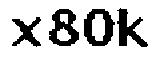0: (82, 7, 115, 50)
8: (49, 6, 78, 51)
k: (117, 8, 151, 48)
x: (8, 15, 44, 49)
